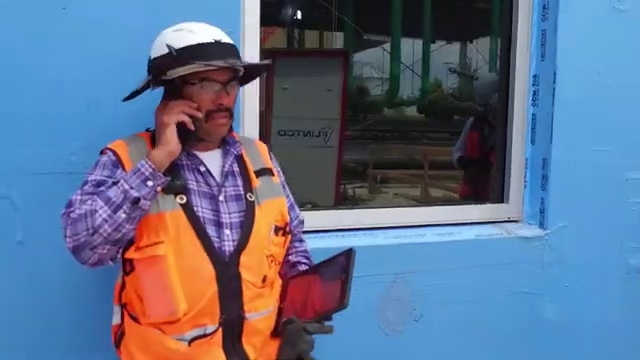helmet: (128, 15, 274, 90)
jacket: (92, 130, 316, 360)
